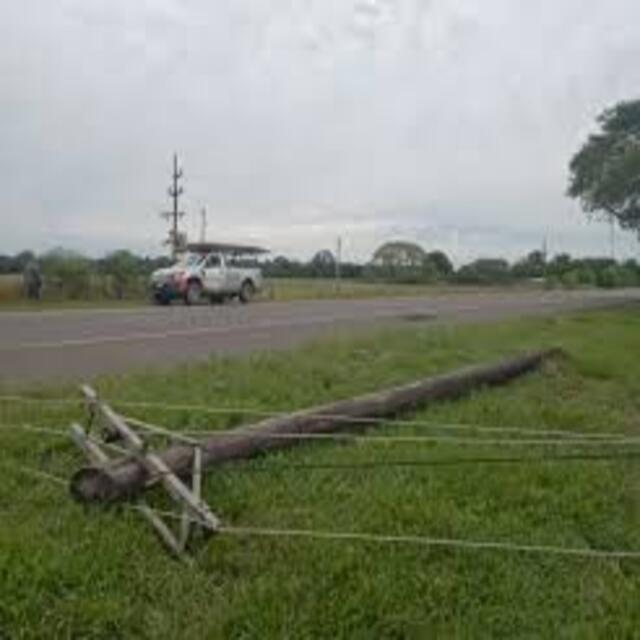Inclined Pole: (55, 330, 580, 576)
